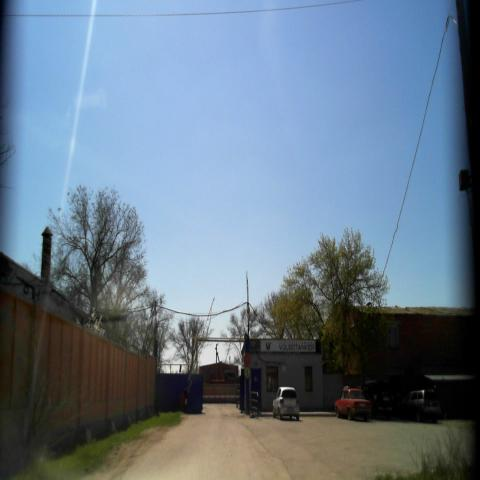3_24: (243, 366, 250, 378)
